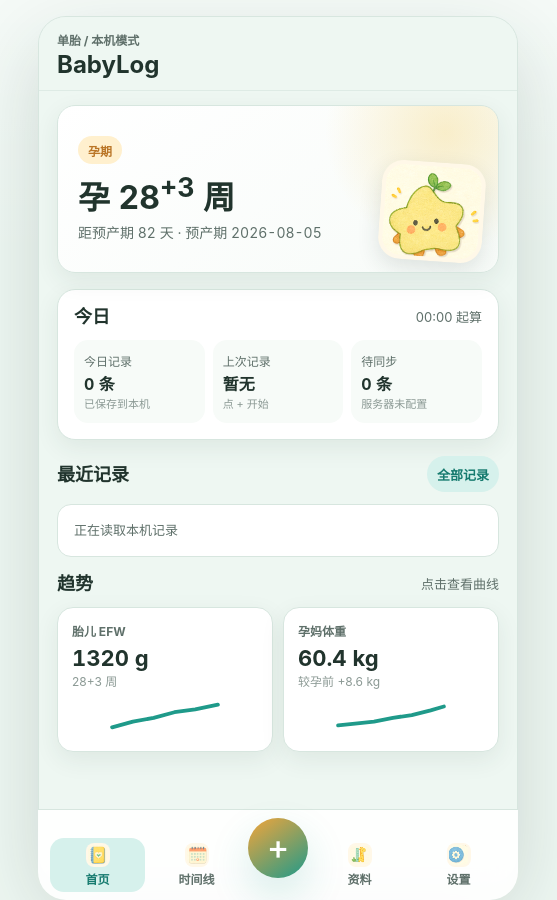
Test: BabyLog UI shell › switches to timeline, library, and settings workspaces
Click the button "时间线" at [196, 865], box [149,838,244,892]
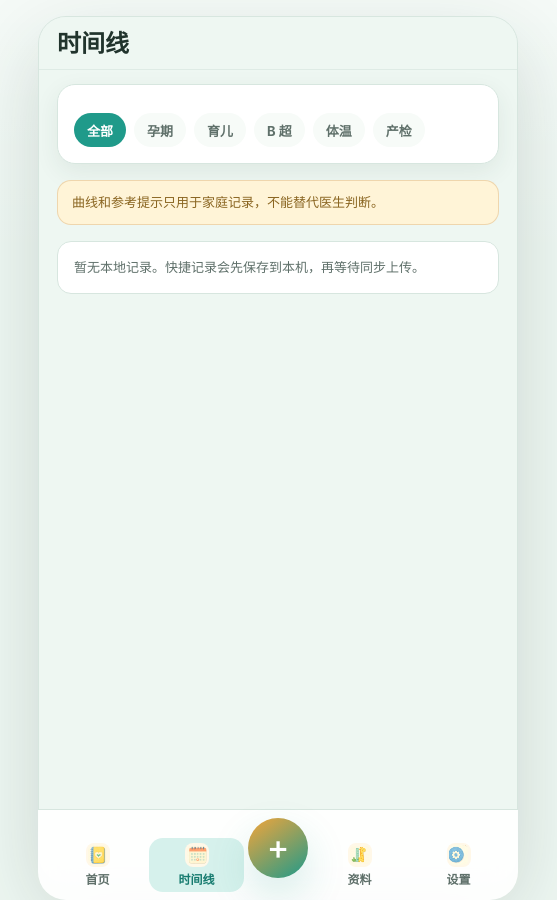
Expected: the button "全部" is shown, [74,113,126,147]
Now the heading "时间线" is shown, box [57,31,129,57]
Click the button "资料" at [360, 865], box [312,838,407,892]
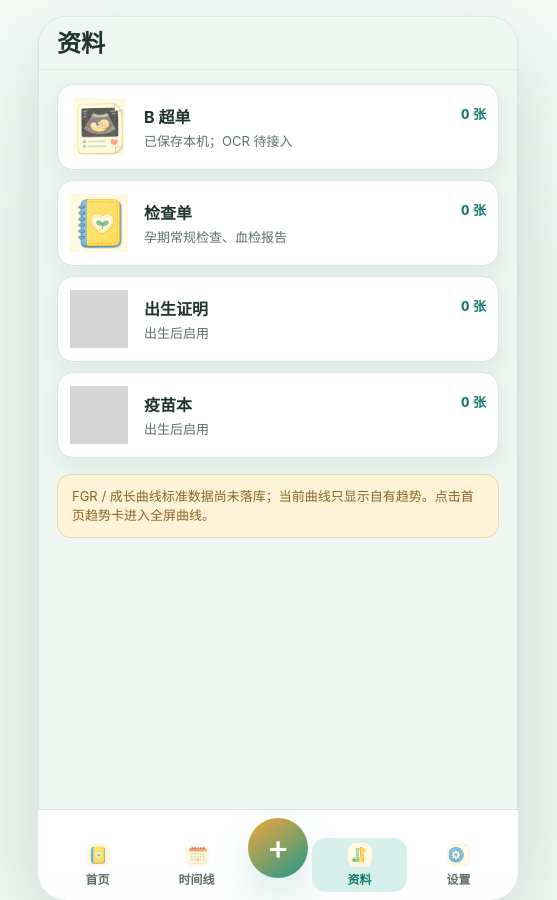
Now the heading "资料" is shown, box [57,31,105,57]
Now the heading "B 超单" is shown, box [144,104,190,128]
Click the button "设置" at [458, 865], box [411,838,506,892]
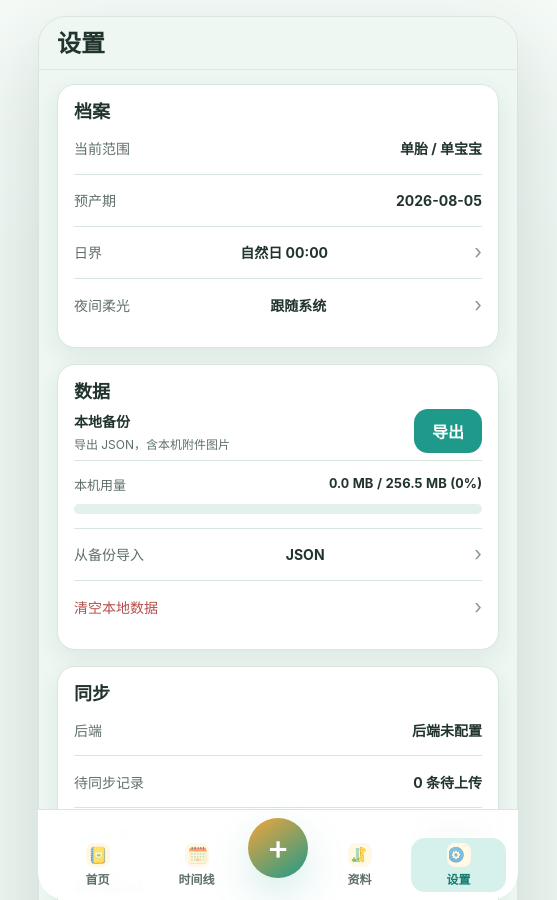
Now the heading "设置" is shown, box [57,31,105,57]
Now the text "后端未配置" is shown, box [412,720,482,740]
